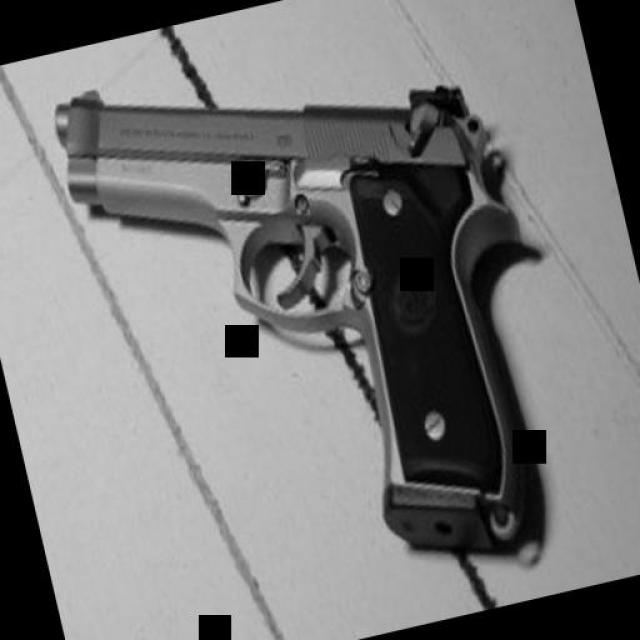gun: (45, 0, 601, 640)
